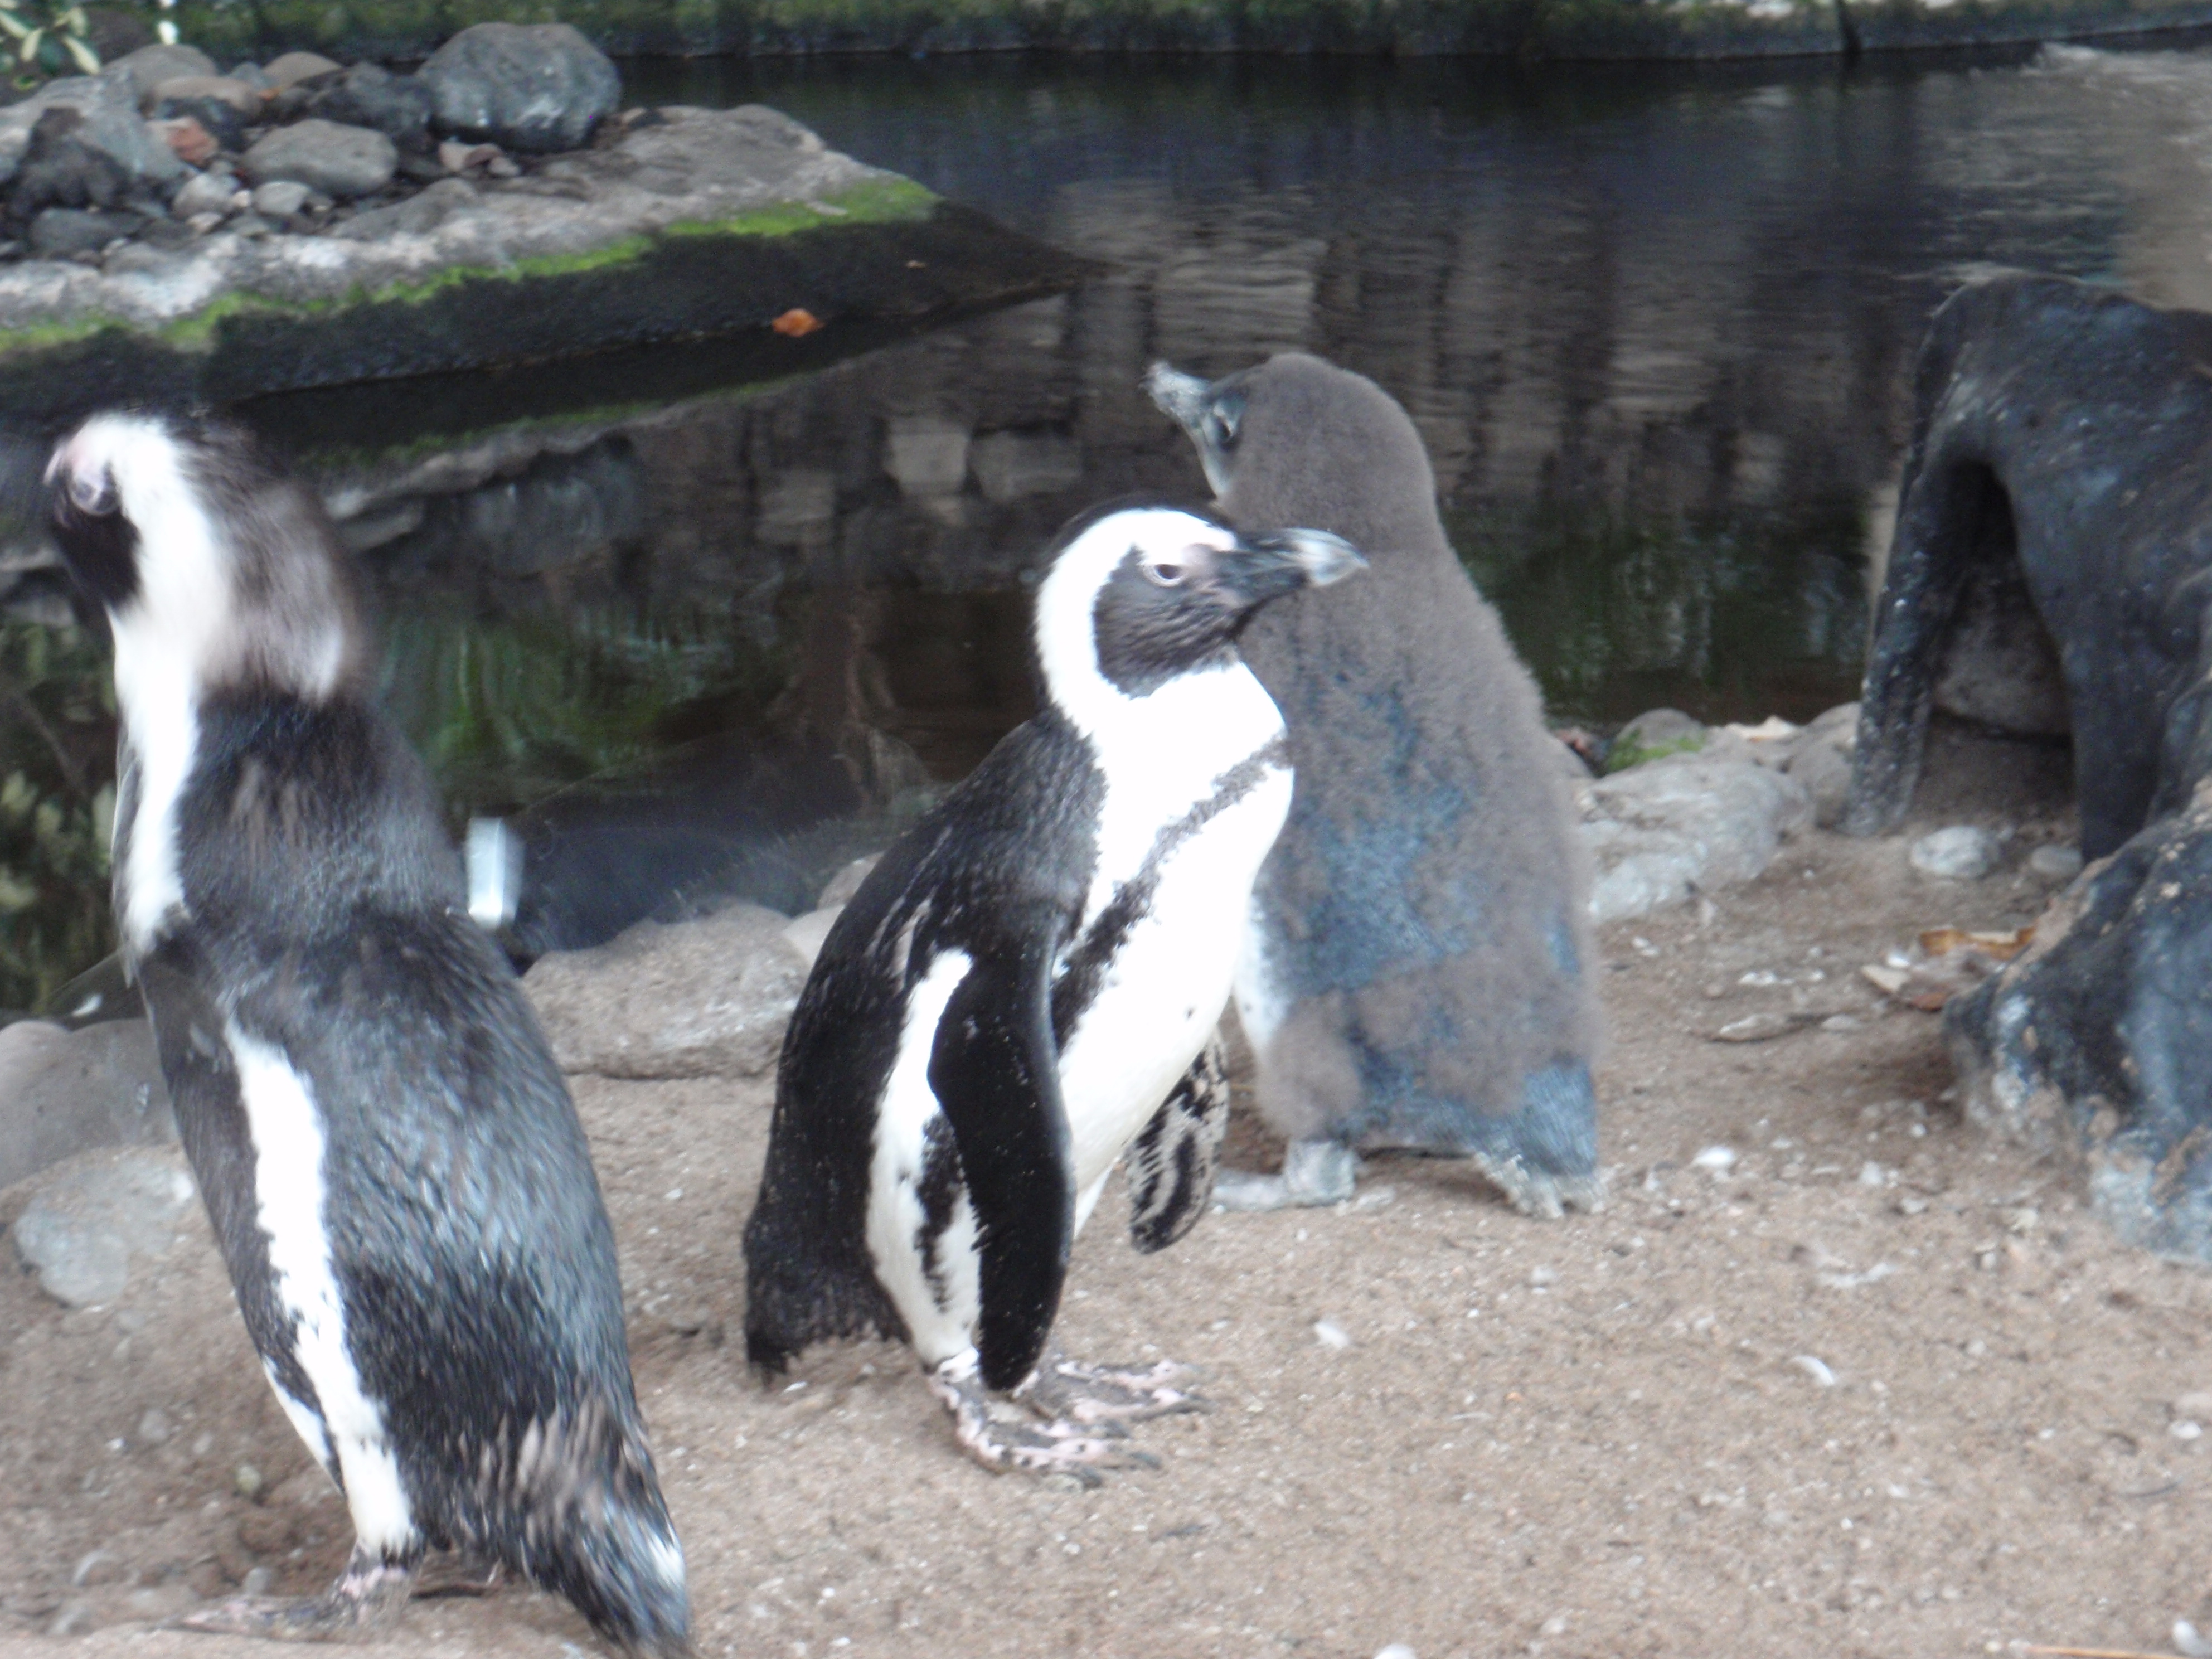penguin: (775, 469, 1366, 1542)
